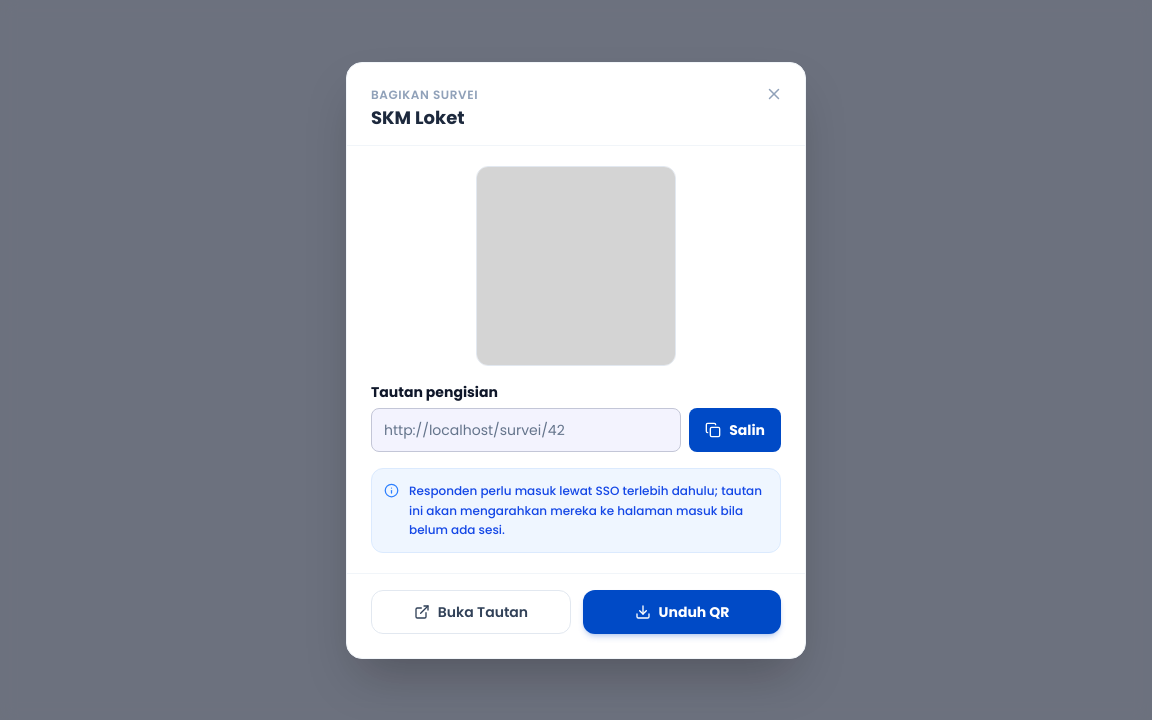
Test case: ShareSurveyModal — unduhan poster QR › menampilkan pesan bila poster gagal disusun, dan tak menyimpan apa pun
The image size is (1152, 720).
Click the button "Unduh QR" at (682, 612), box left=583, top=590, right=781, bottom=634
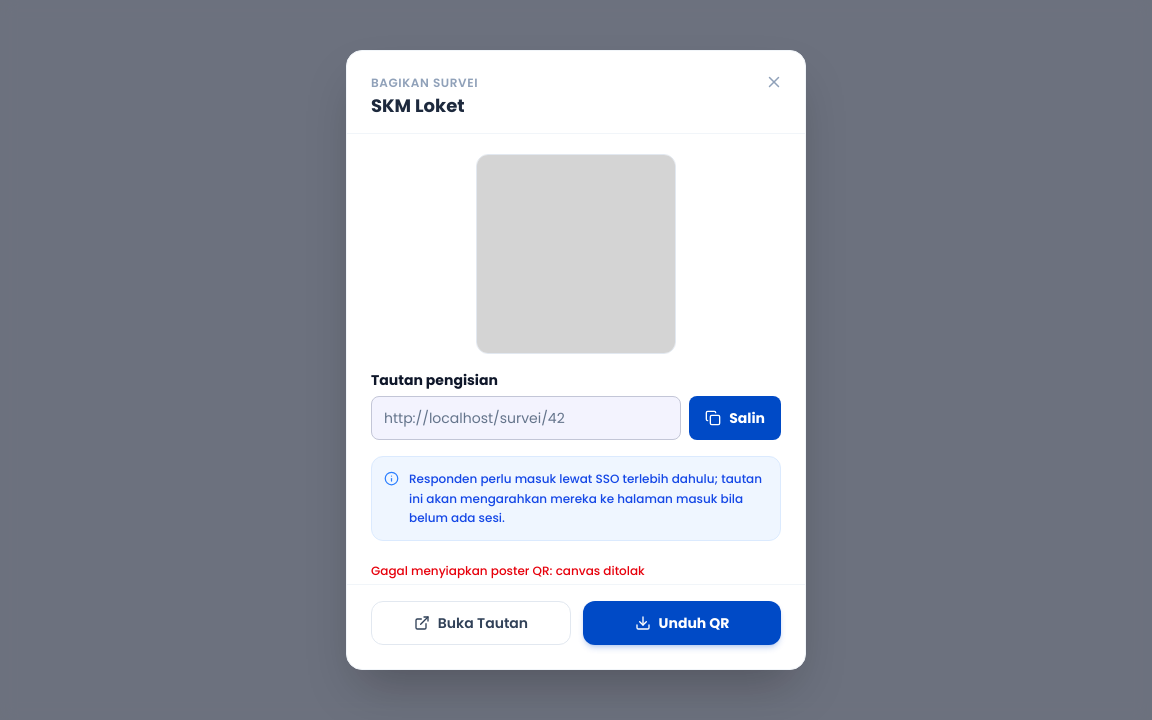
Now the text "Gagal menyiapkan poster QR: canvas ditolak" is shown, box left=371, top=562, right=645, bottom=579
